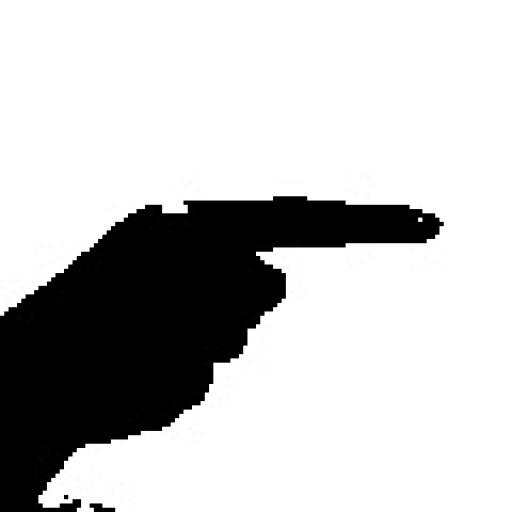index_right: (0, 193, 445, 405)
